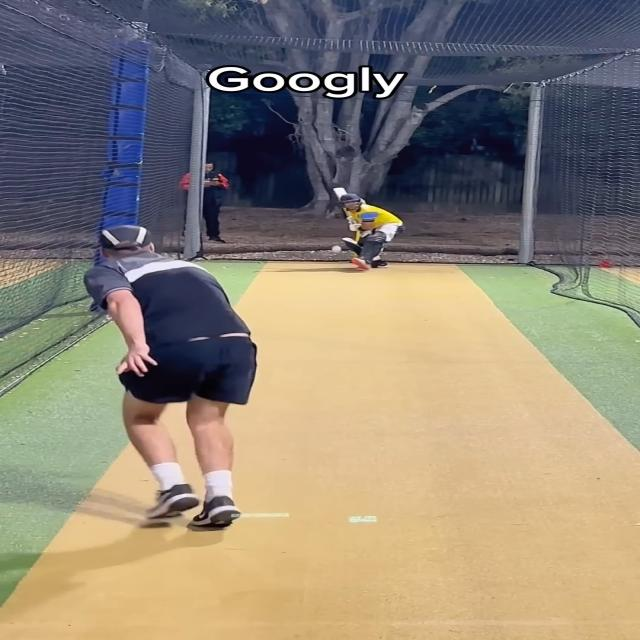Cricket ball: (332, 245, 342, 253)
